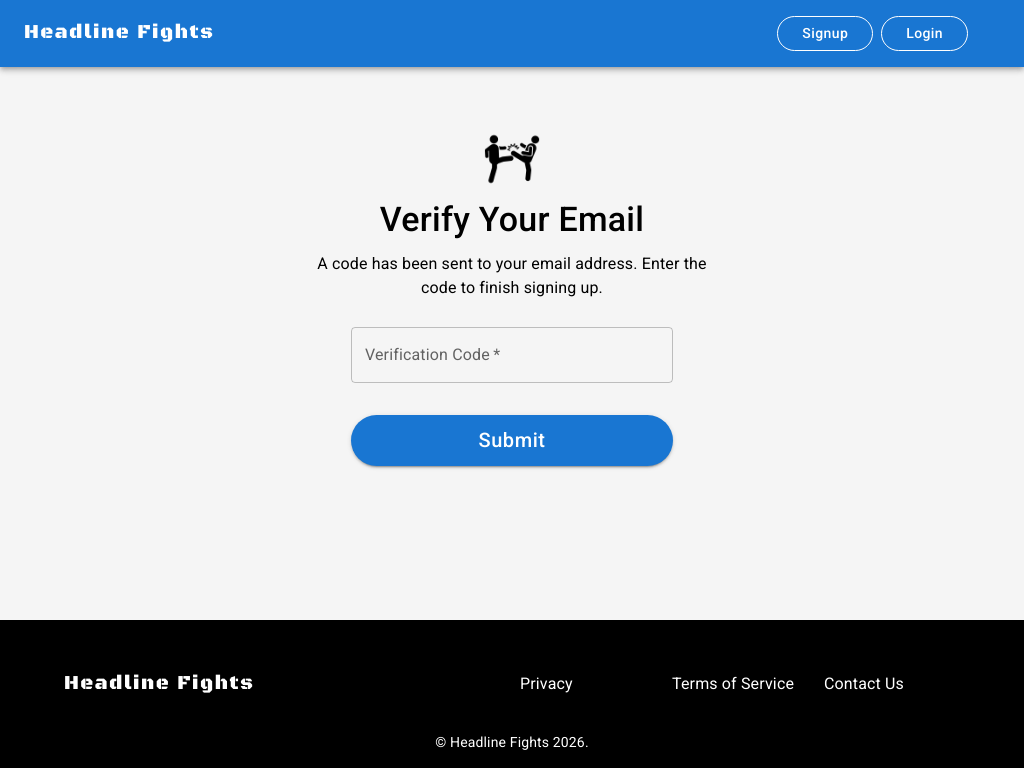
Verify page › shows rate-limit error for a 429 response
Step 1. Type "123456" into the field labelled "Verification Code *" → (512, 356), box 351,328 -> 673,384
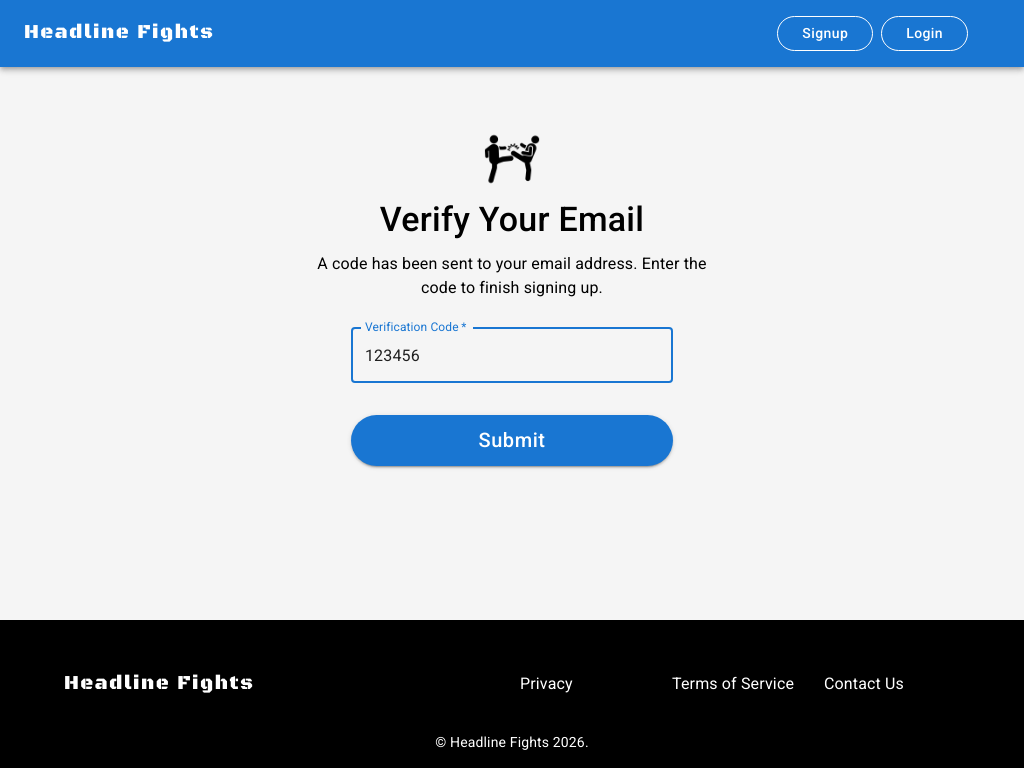
Step 2. Submit the form "Verification Code * Submit", box 351,312 -> 673,482
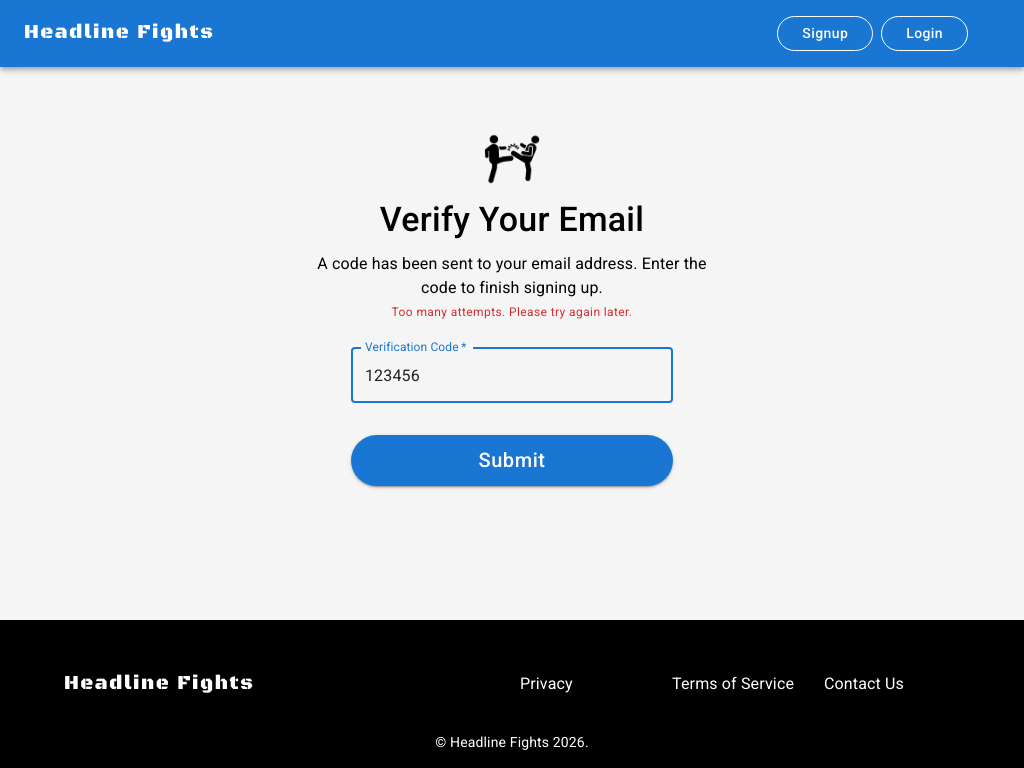
Now the text "Too many attempts. Please try again later." is shown, box 392,304 -> 632,323
